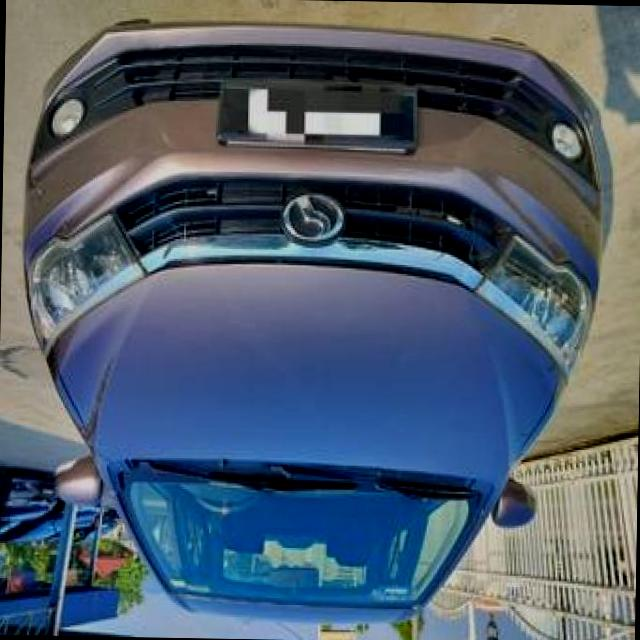PeroduaBezza: (14, 19, 612, 633)
